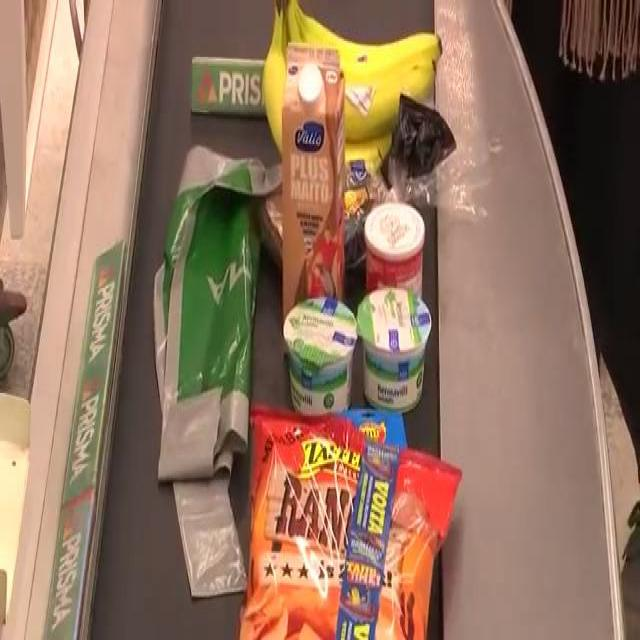beverage: (283, 45, 345, 351)
food-box: (247, 432, 448, 640), (264, 150, 402, 255), (371, 284, 432, 409), (295, 295, 355, 416), (371, 202, 422, 292)
fruit: (276, 2, 442, 162)
utility-box: (161, 146, 269, 581)
